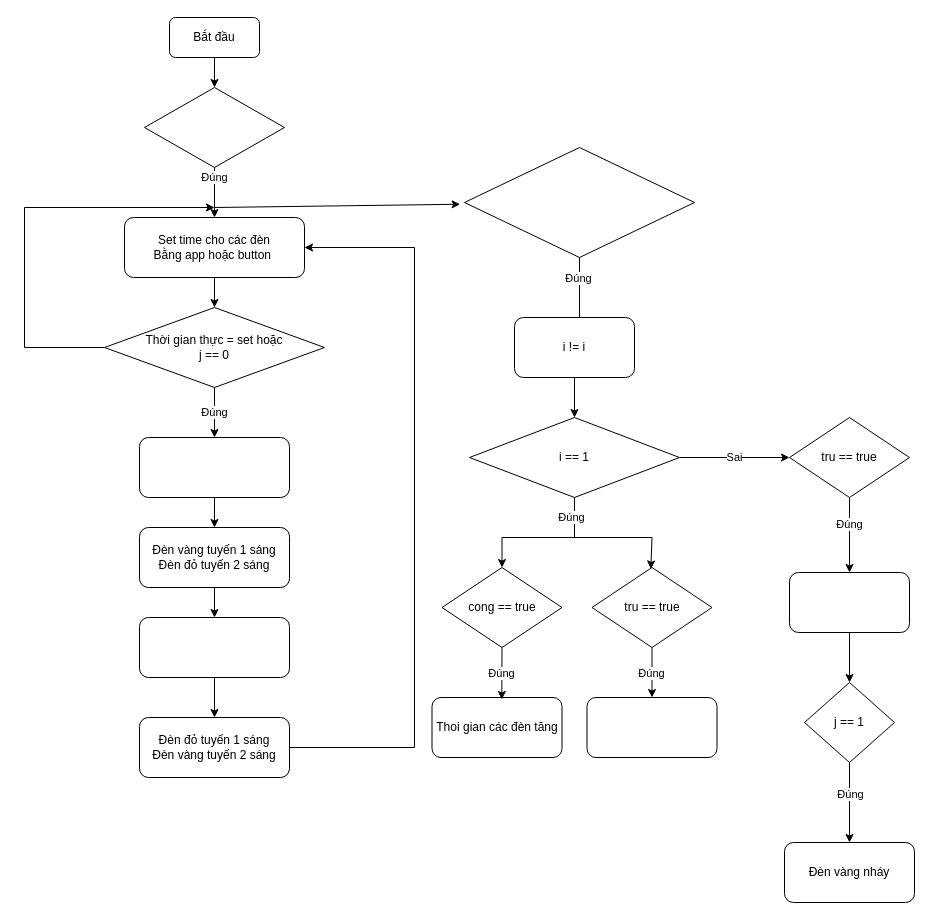
This 932x920 diagram has some shape labels left out. The shapes that lost their labels are listed below. From the top down, each one's box as (x1, y1, x2, y2) in pixels, then its label:
(144, 86, 284, 168): Wifi = true
(464, 146, 694, 258): Mode == true
(138, 436, 290, 498): Đèn xanh tuyến 1 sáng Đèn đỏ tuyến 2 sáng
(788, 572, 910, 632): j != j
(138, 616, 290, 678): Đèn đỏ tuyến 1 sáng Đèn xanh tuyến 2 sáng
(586, 696, 717, 758): Thoi gian các đèn giảm
